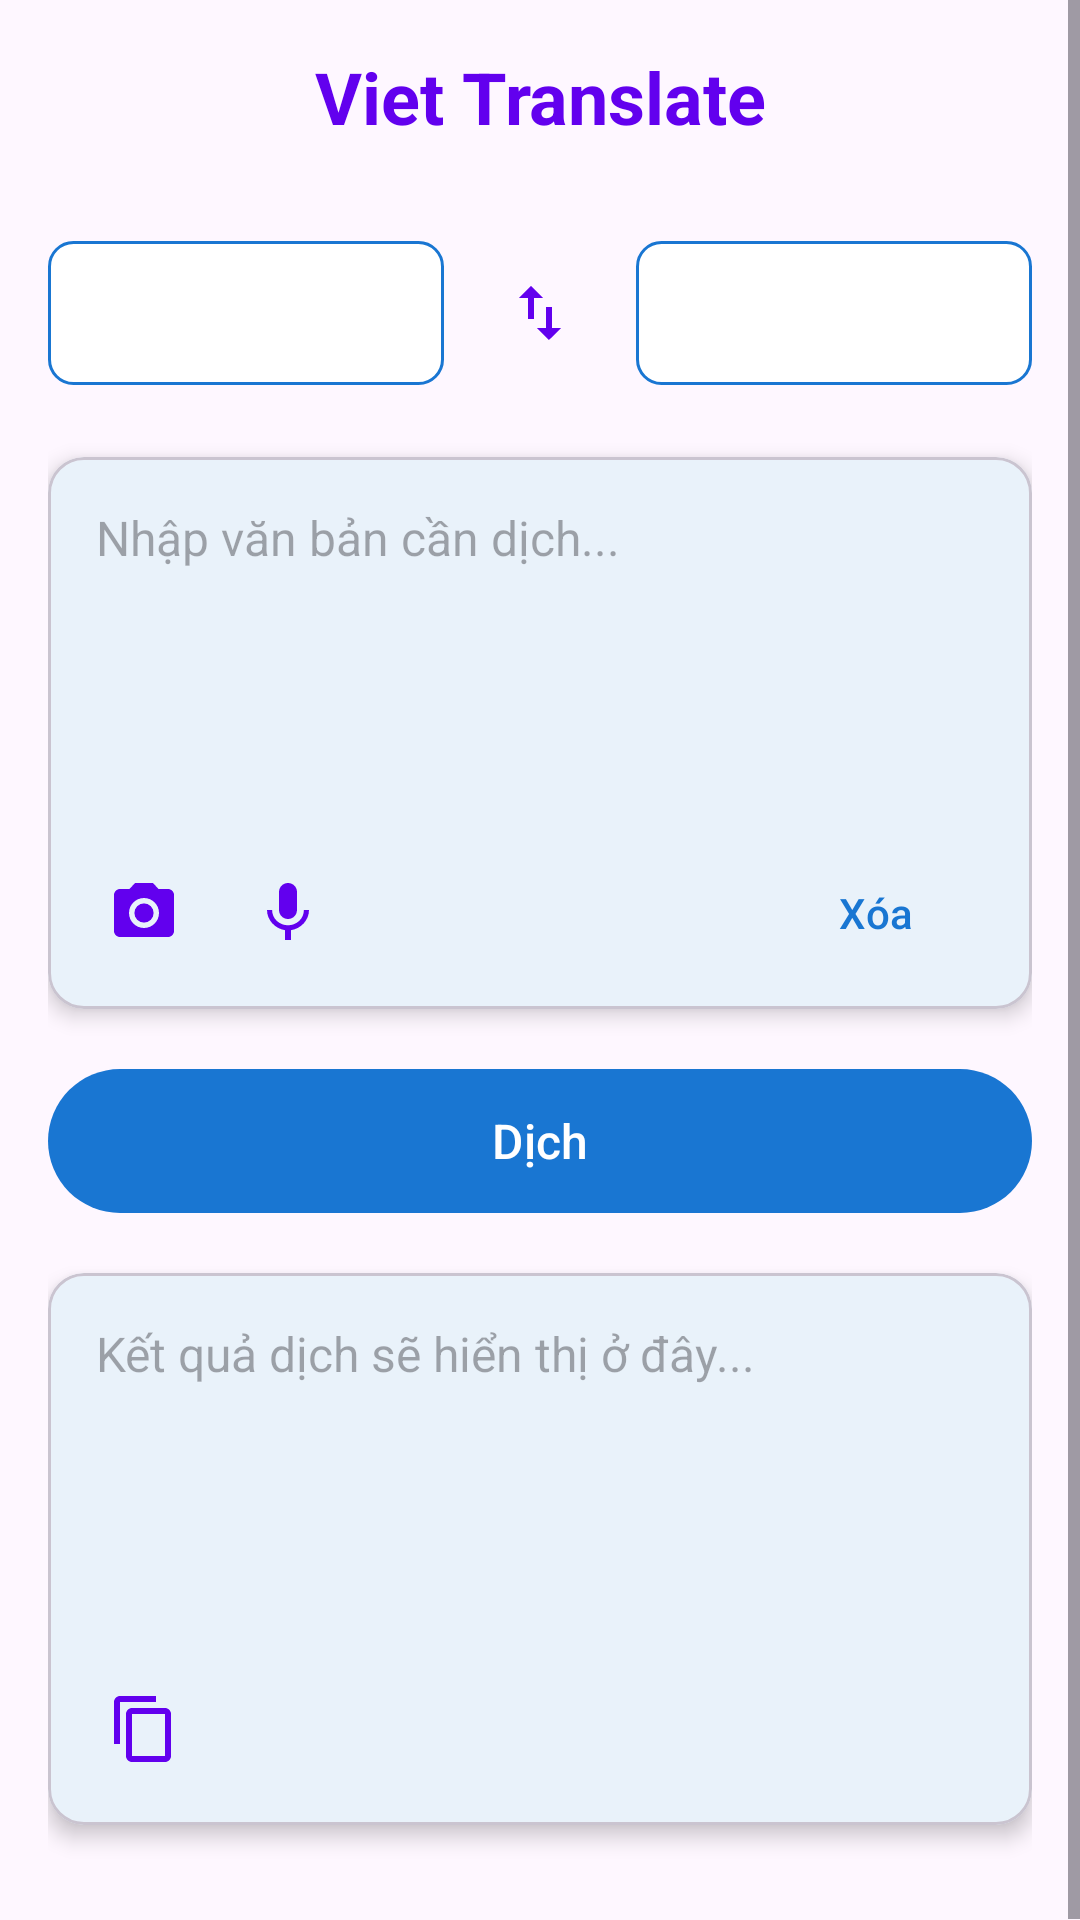

Icons on this 1080 × 1920 Android screen, each with the point to tap as point (x, y):
camera: point (144, 910)
mic: point (288, 911)
Sao chép: point (142, 1729)
Đổi ngôn ngữ: point (540, 313)
